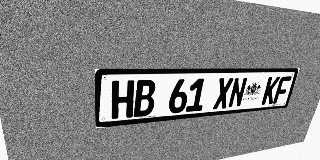1: (186, 78, 207, 112)
6: (168, 79, 190, 114)
B: (133, 80, 156, 117)
F: (273, 76, 292, 104)
H: (111, 80, 134, 119)
K: (261, 76, 280, 105)
N: (227, 77, 248, 108)
X: (213, 78, 234, 109)
